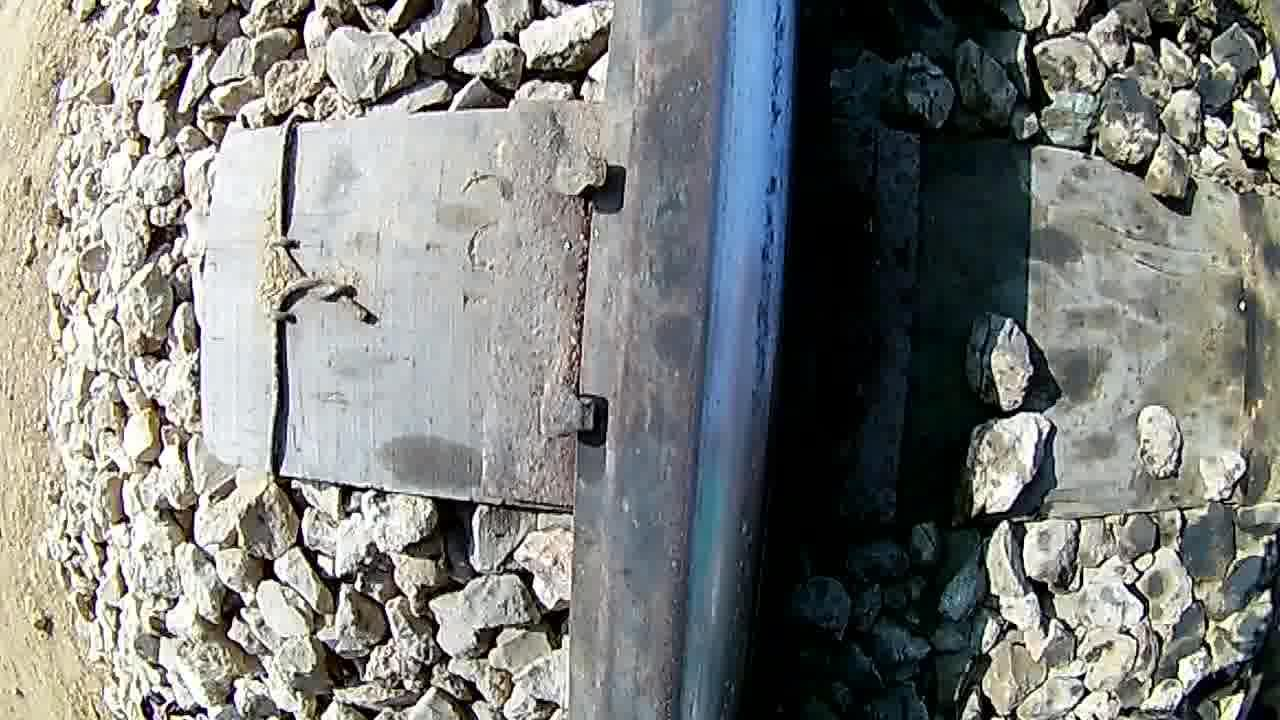crack: (612, 0, 798, 720)
